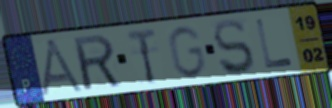A: (38, 37, 89, 98)
G: (165, 24, 208, 81)
L: (253, 16, 296, 71)
R: (70, 32, 124, 93)
S: (211, 17, 257, 77)
T: (125, 25, 159, 87)
